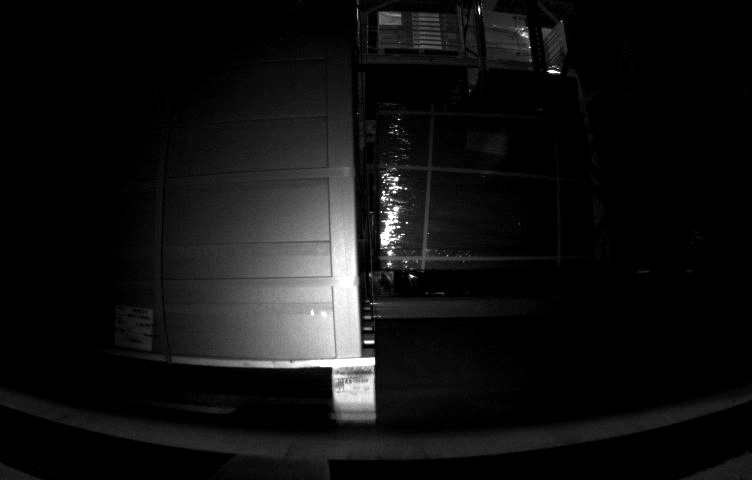True Barcode: (115, 306, 157, 352)
